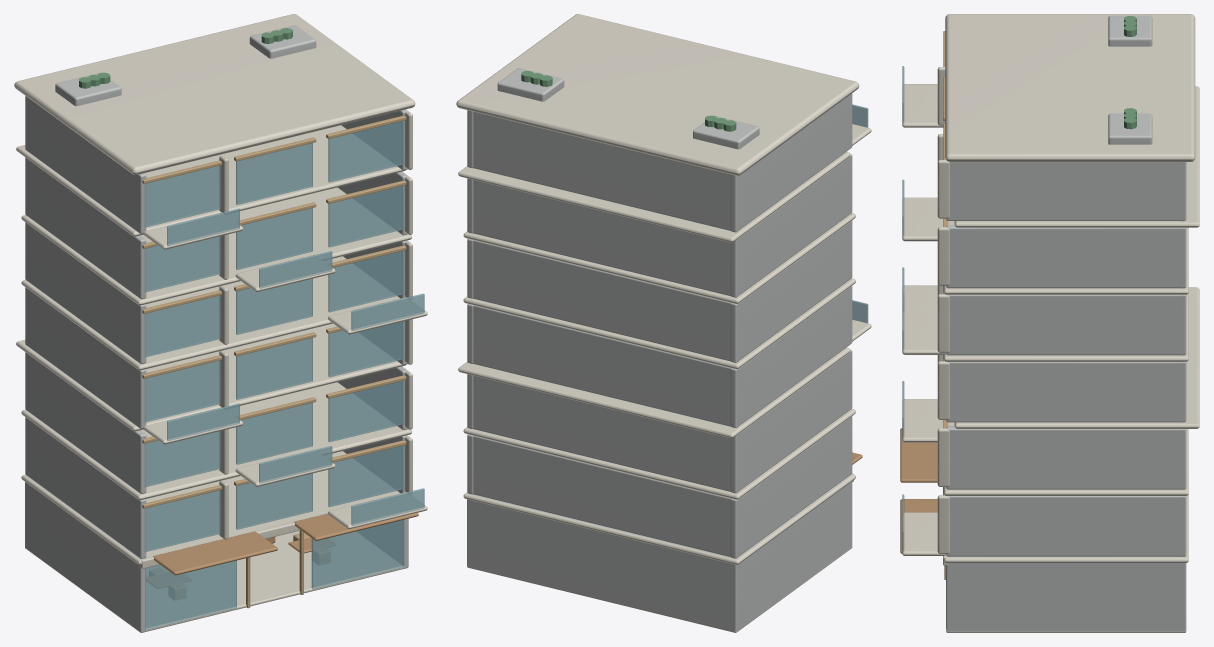
Rendered from mixed-3.glb.
The picture shows the model from 3 angles, left to right: view 1: azimuth 30°, elevation 25°; view 2: azimuth 150°, elevation 25°; view 3: azimuth 270°, elevation 25°; orthographic projection. The views are drawn at different scales.
Visible parts, largest first — view 1: facility textured limestone, facility real building glazing, facility warm architectural concrete, facility brushed bronze, facility oak and walnut, facility live planting; view 2: facility warm architectural concrete, facility textured limestone, facility live planting, facility real building glazing; view 3: facility warm architectural concrete, facility textured limestone, facility oak and walnut, facility real building glazing, facility live planting, facility brushed bronze.
Part boxes in pixels (x1,y1,x2,y2): facility textured limestone: (14,14,427,632); facility real building glazing: (144,120,424,630); facility warm architectural concrete: (25,25,408,632); facility brushed bronze: (142,116,406,608); facility oak and walnut: (146,512,418,588); facility live planting: (79,28,292,88); facility warm architectural concrete: (467,68,852,632); facility textured limestone: (456,14,871,632); facility live planting: (521,71,736,131); facility real building glazing: (852,104,868,323); facility warm architectural concrete: (946,15,1186,632); facility textured limestone: (902,14,1199,632); facility oak and walnut: (900,428,937,553); facility real building glazing: (902,66,946,628); facility live planting: (1124,16,1136,129); facility brushed bronze: (943,31,948,579).
Size of the model in its own units: 16.9 by 27.38 by 14.98.
